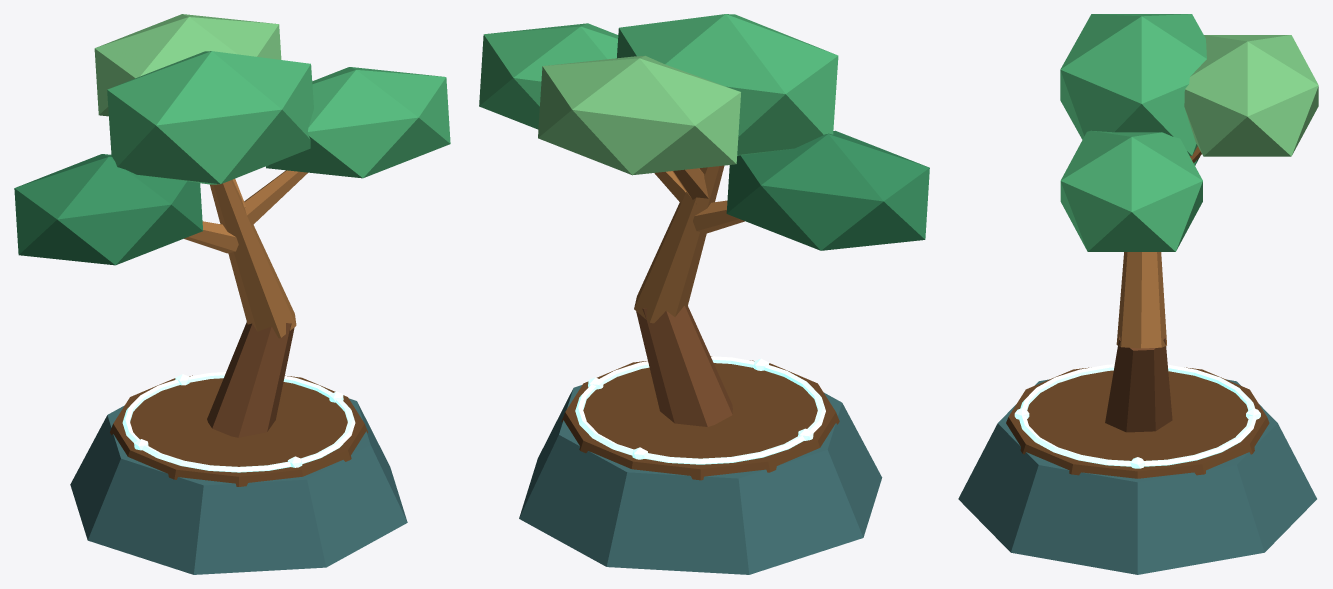
Rendered from mature.glb.
3 renders of one model, left to right at view 1: azimuth 30°, elevation 25°; view 2: azimuth 150°, elevation 25°; view 3: azimuth 270°, elevation 25°, orthographic. The views are drawn at different scales.
Visible parts, largest first — view 1: Bonsai_Pot, Bonsai_Crown, Bonsai_Soil, Bonsai_Pad_01, Bonsai_Pad_02, Bonsai_Pad_03, Bonsai_Trunk_01, Bonsai_Trunk_02, Chrono_Energy_Ring, Bonsai_Branch_02, Bonsai_Branch_01; view 2: Bonsai_Pot, Bonsai_Pad_03, Bonsai_Pad_01, Bonsai_Soil, Bonsai_Crown, Bonsai_Pad_02, Bonsai_Trunk_01, Bonsai_Trunk_02, Chrono_Energy_Ring, Bonsai_Branch_01, Bonsai_Branch_03; view 3: Bonsai_Pot, Bonsai_Soil, Bonsai_Crown, Bonsai_Pad_02, Bonsai_Pad_03, Bonsai_Trunk_01, Bonsai_Trunk_02, Chrono_Energy_Ring.
Boxes of the visible parts, x1,y1,x2,y2 form: Bonsai_Pot: [70, 398, 407, 574]; Bonsai_Crown: [107, 51, 313, 184]; Bonsai_Soil: [110, 375, 367, 486]; Bonsai_Pad_01: [14, 154, 202, 265]; Bonsai_Pad_02: [266, 67, 450, 178]; Bonsai_Pad_03: [94, 14, 281, 116]; Bonsai_Trunk_01: [207, 322, 294, 437]; Bonsai_Trunk_02: [210, 179, 296, 338]; Chrono_Energy_Ring: [122, 372, 355, 472]; Bonsai_Branch_02: [244, 170, 307, 225]; Bonsai_Branch_01: [184, 221, 238, 253]; Bonsai_Pot: [519, 385, 882, 574]; Bonsai_Pad_03: [538, 55, 740, 175]; Bonsai_Pad_01: [726, 130, 929, 250]; Bonsai_Soil: [561, 356, 839, 480]; Bonsai_Crown: [617, 14, 838, 155]; Bonsai_Pad_02: [479, 23, 618, 129]; Bonsai_Trunk_01: [636, 305, 732, 426]; Bonsai_Trunk_02: [634, 165, 724, 323]; Chrono_Energy_Ring: [575, 356, 825, 464]; Bonsai_Branch_01: [693, 200, 744, 233]; Bonsai_Branch_03: [672, 168, 708, 199]; Bonsai_Pot: [958, 379, 1316, 574]; Bonsai_Soil: [1006, 367, 1269, 478]; Bonsai_Crown: [1060, 14, 1206, 155]; Bonsai_Pad_02: [1060, 130, 1202, 251]; Bonsai_Pad_03: [1184, 35, 1318, 156]; Bonsai_Trunk_01: [1105, 335, 1172, 432]; Bonsai_Trunk_02: [1116, 252, 1166, 348]; Chrono_Energy_Ring: [1019, 364, 1256, 466].
Size of the model in its own units: 2.49 by 2.6 by 1.81.
